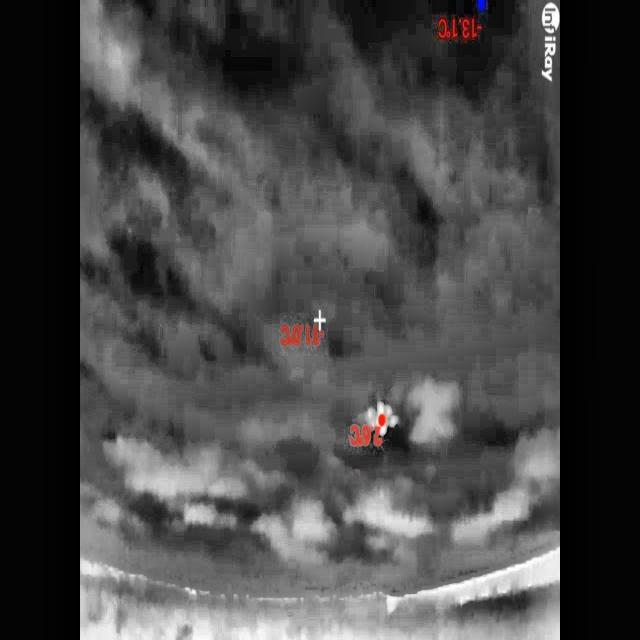drone: (368, 397, 398, 446)
